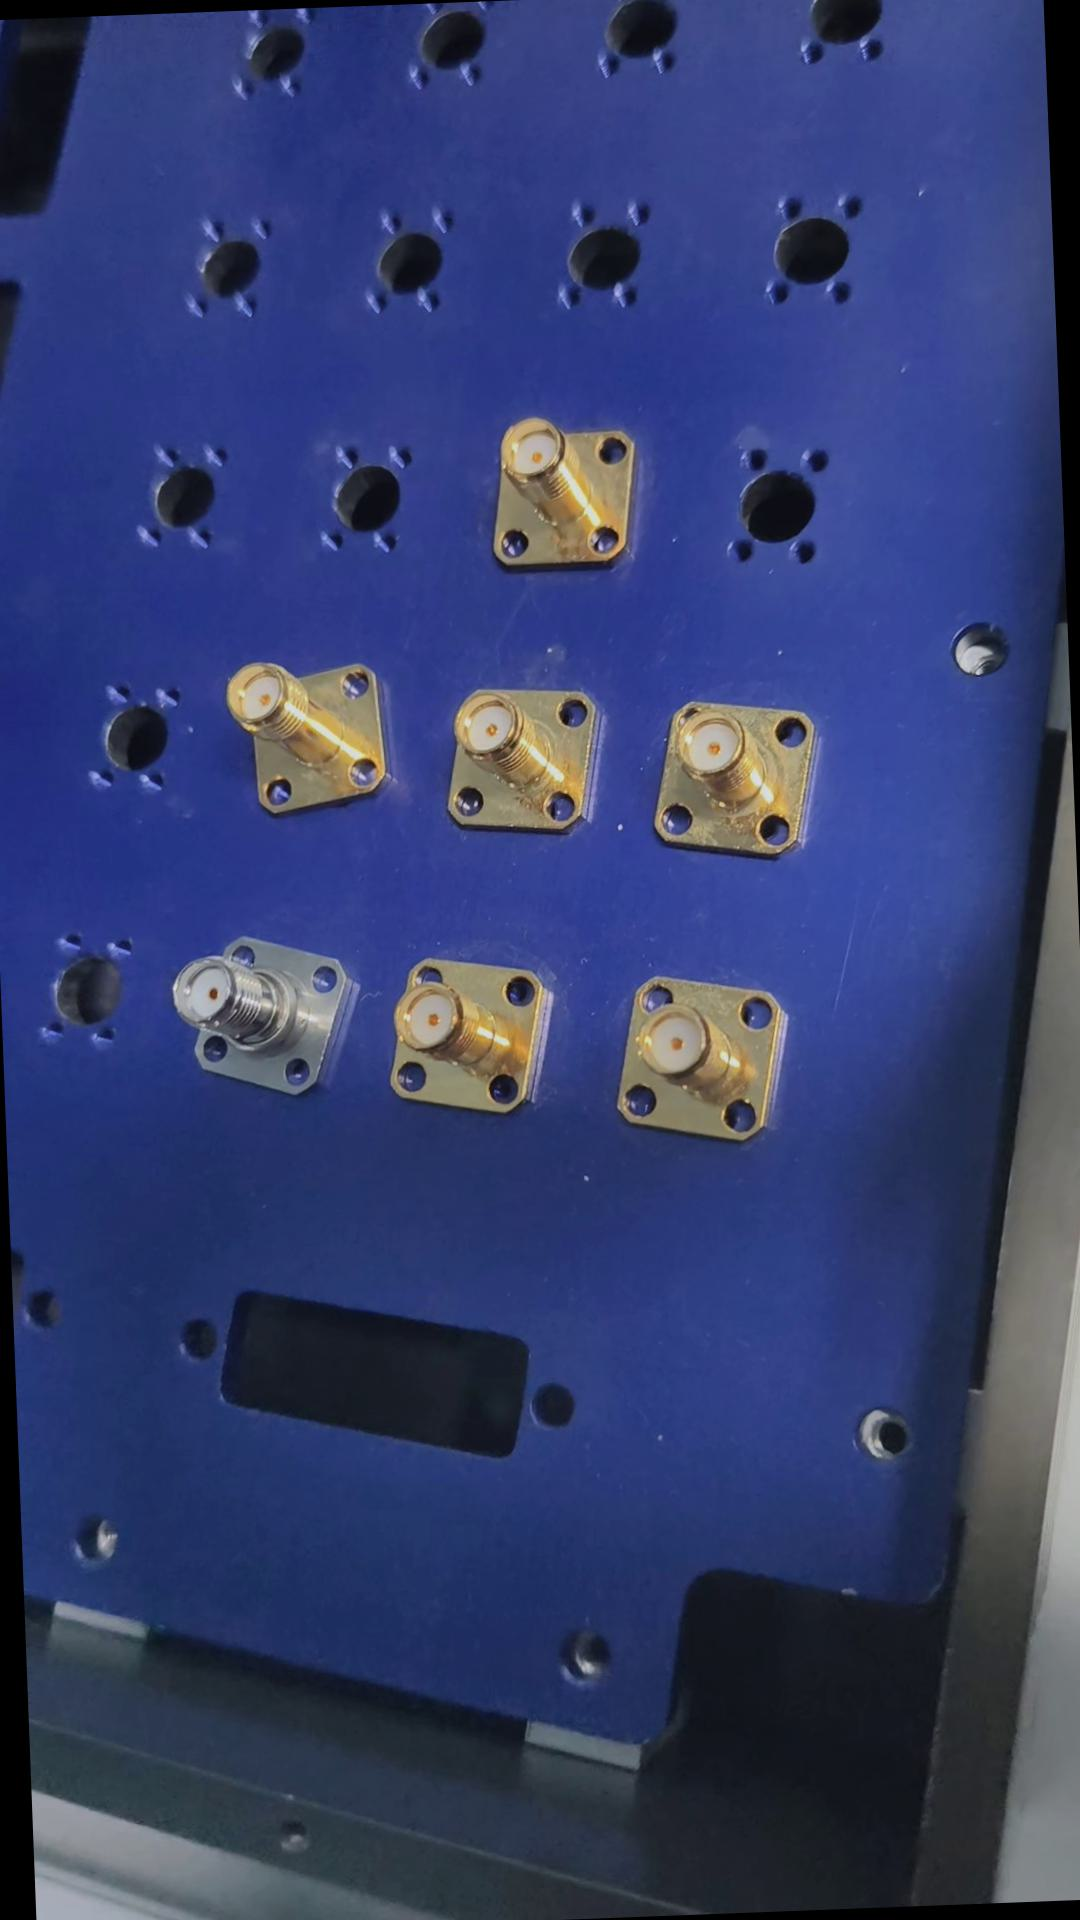SMA: (605, 956, 789, 1149), (382, 939, 556, 1125), (644, 694, 835, 861), (464, 409, 644, 578), (181, 920, 348, 1101), (436, 675, 603, 839), (223, 655, 389, 815)
